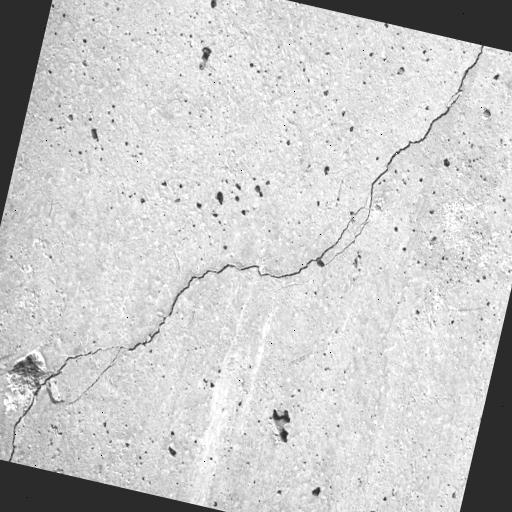spalling: (4, 45, 491, 450)
